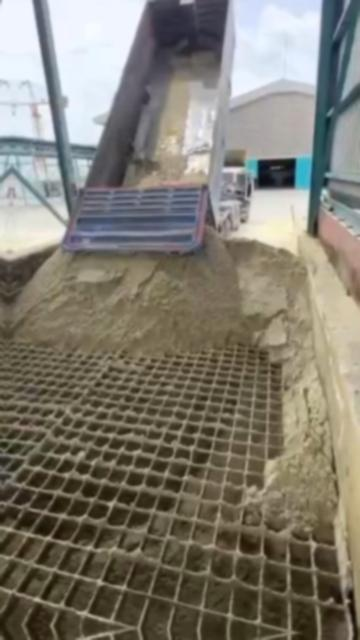sand: (10, 230, 336, 539)
